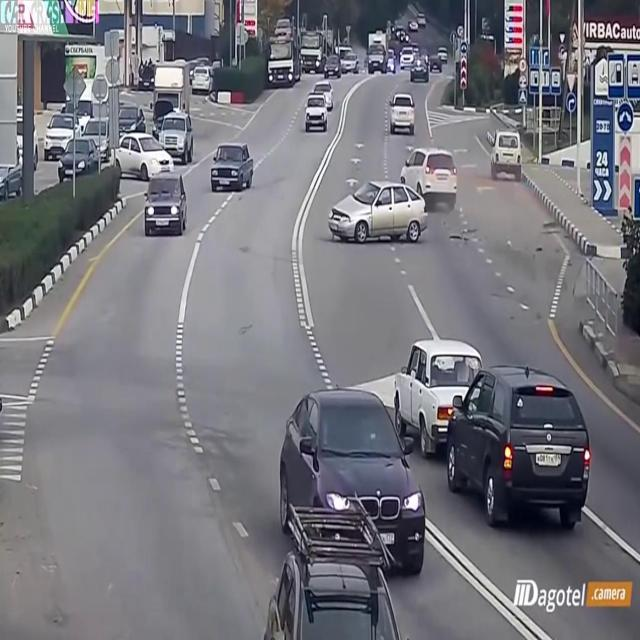accident: (324, 142, 480, 252)
non_accident: (392, 330, 594, 542), (45, 57, 197, 243), (304, 77, 336, 139)
